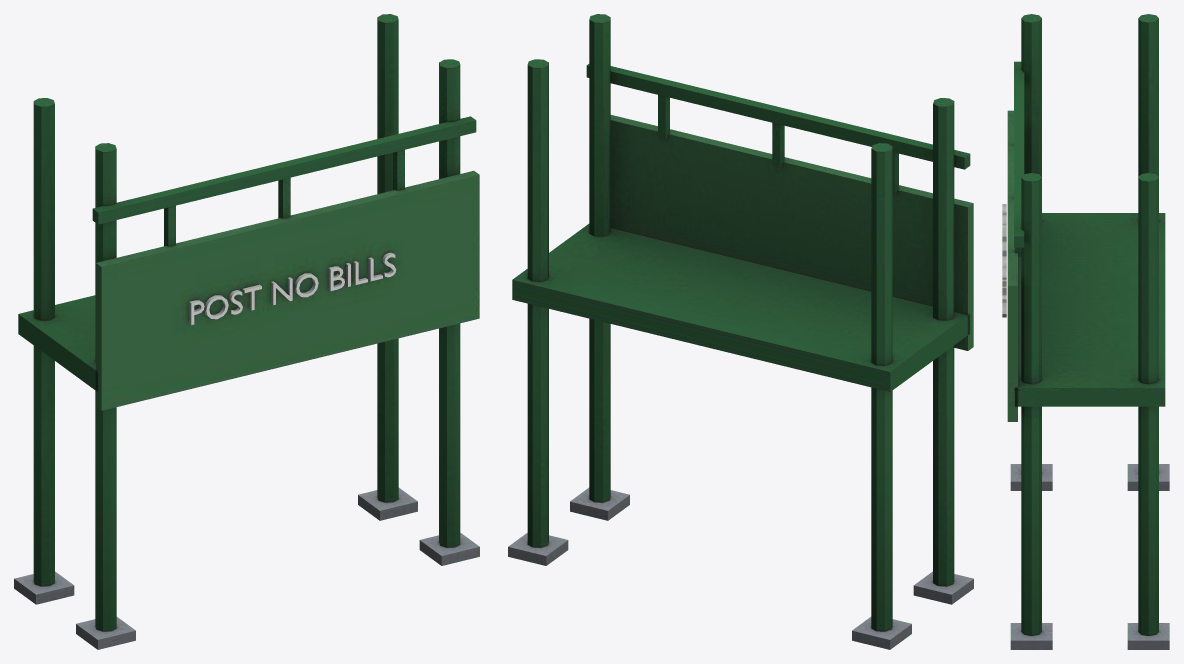
The model's file is andamio.glb.
3 renders of one model, left to right at view 1: azimuth 30°, elevation 25°; view 2: azimuth 150°, elevation 25°; view 3: azimuth 270°, elevation 25°, orthographic. The views are drawn at different scales.
Parts seen in each view (by area): view 1: andamio; view 2: andamio; view 3: andamio.
Part boxes in pixels (x1,y1,x2,y2): andamio: [14, 14, 479, 649]; andamio: [508, 14, 973, 649]; andamio: [1002, 14, 1169, 649].
Bounding box in the file's own units: 2 × 2.45 × 0.8.
1 material, 1 textured.
